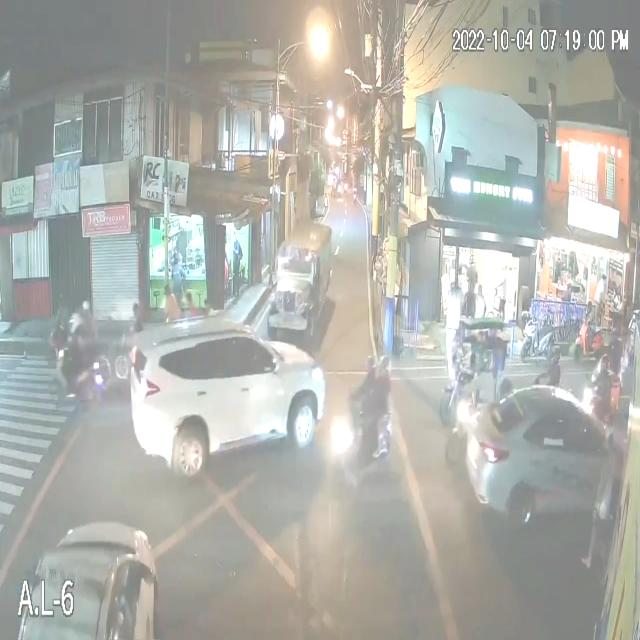Full-Faced: (375, 352, 391, 384), (546, 344, 563, 372), (363, 352, 377, 379), (596, 354, 610, 376)
